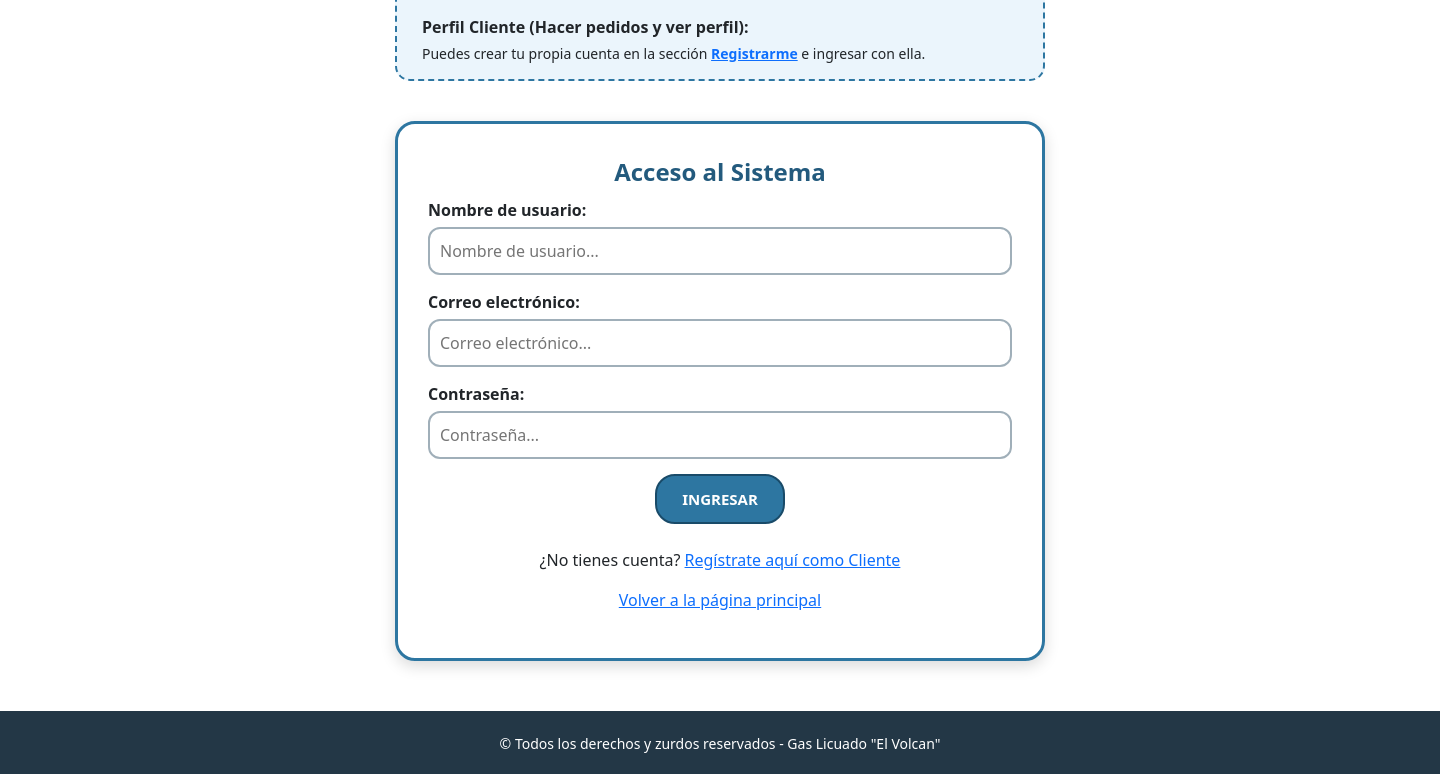
Test case: Pruebas Unitarias - Gas Licuado "El Volcán" › PU-008: Login debe mostrar error si el usuario presiona ingresar con campos vacíos
(page scrolled)
Click the button "INGRESAR" at (720, 499), box [655,474,785,524]
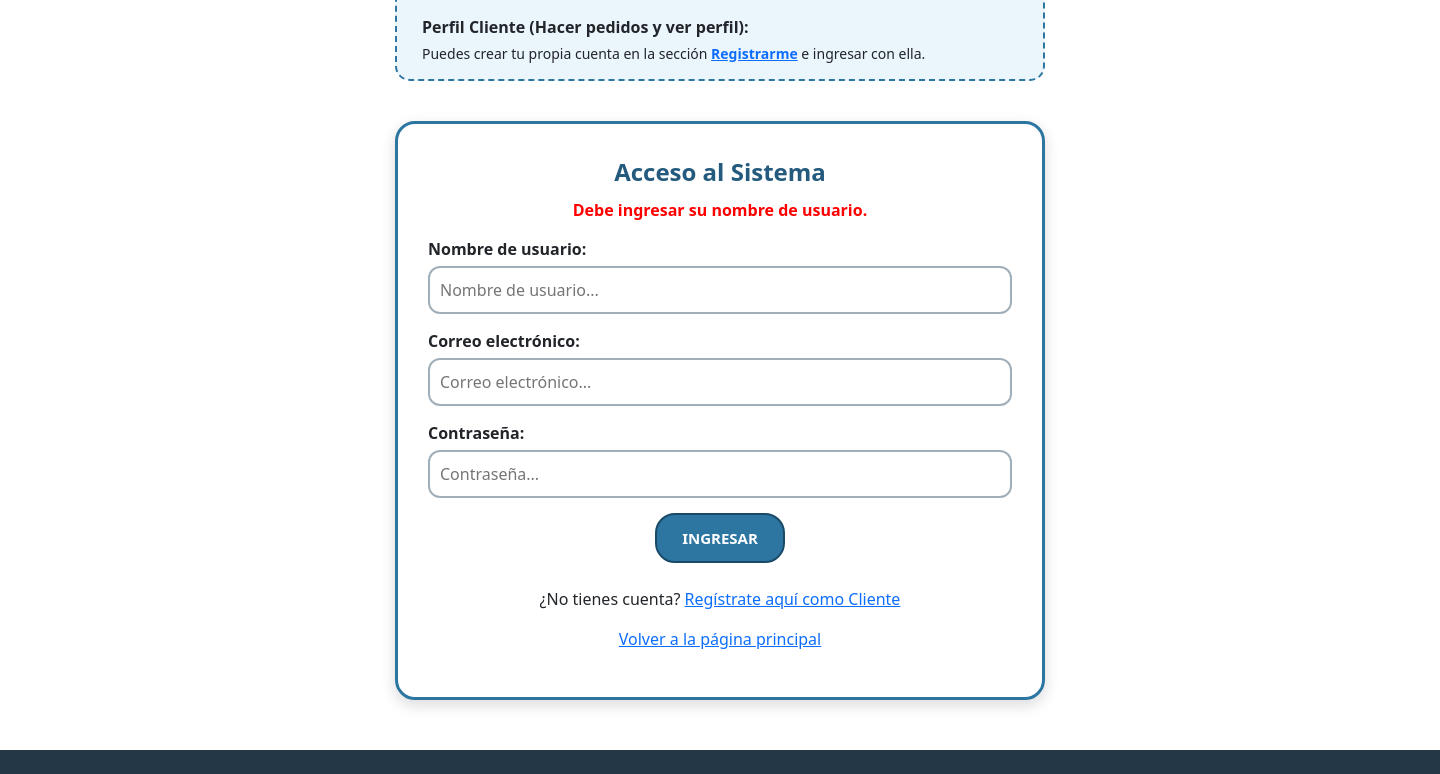
Check: the text "Debe ingresar su nombre de usuario." is shown, box [573,199,867,221]
